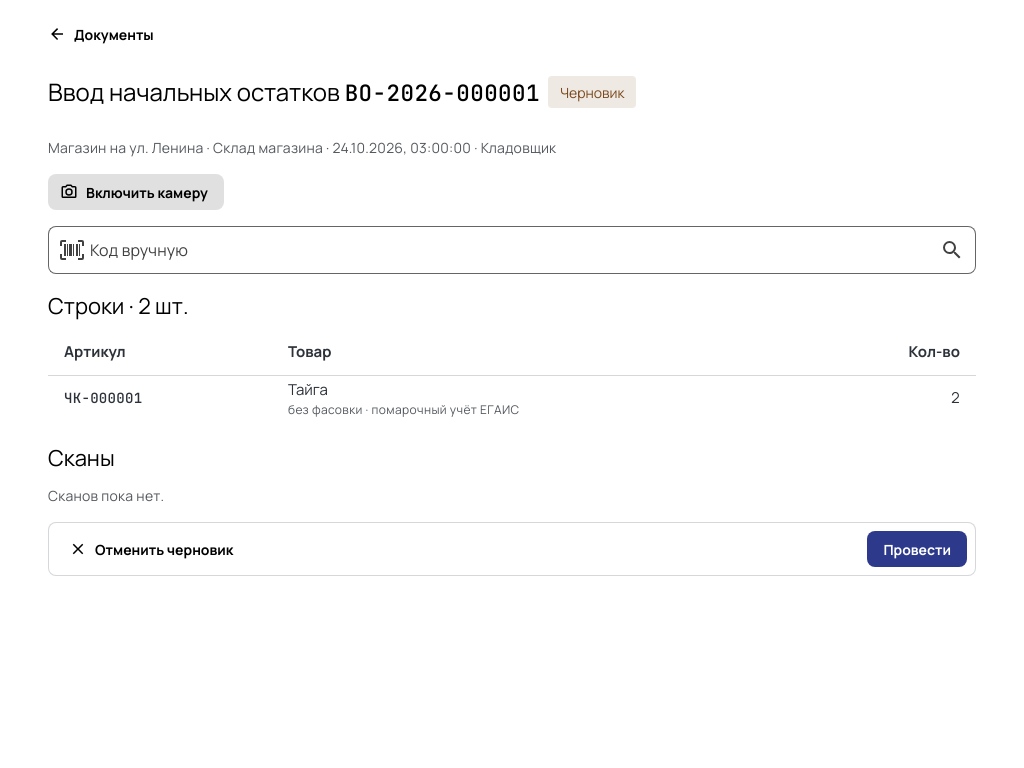
DocumentPage › проведение спрашивает подтверждение с итогом документа
This screenshot has width=1024, height=768.
Click the button with test id "post" at (917, 549), box [867,531,967,567]
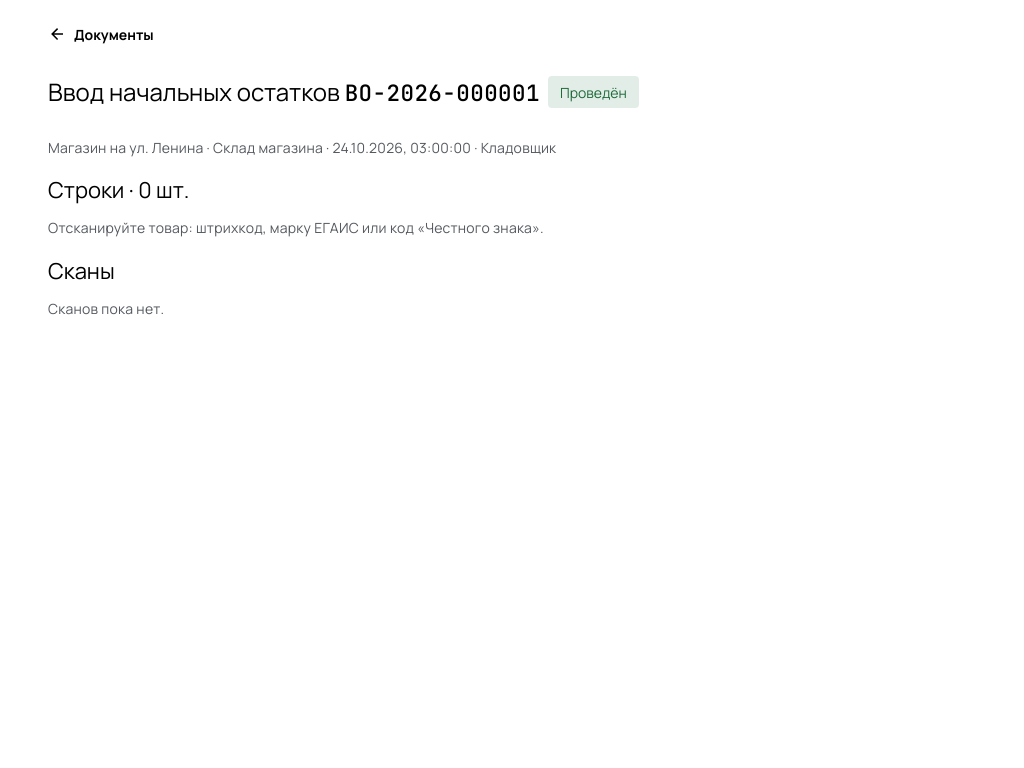
Check: the element with test id "status" reads "Проведён", box [560,83,627,102]
